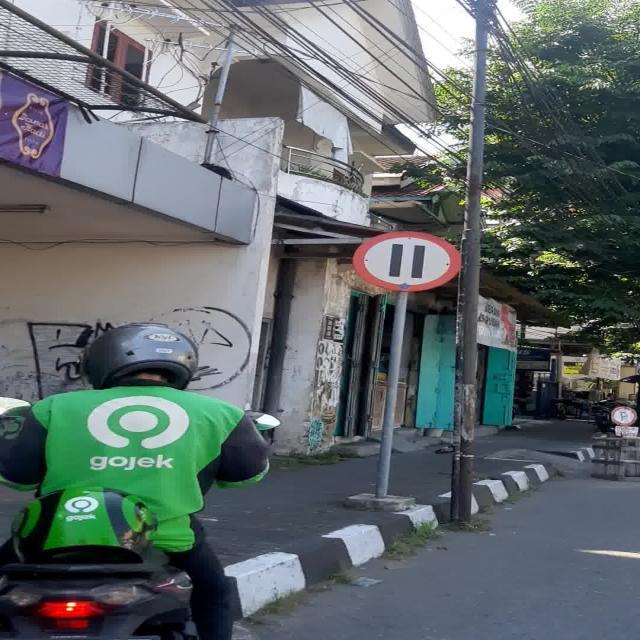Larangan Muatan - 10 ton: (353, 231, 460, 291)
